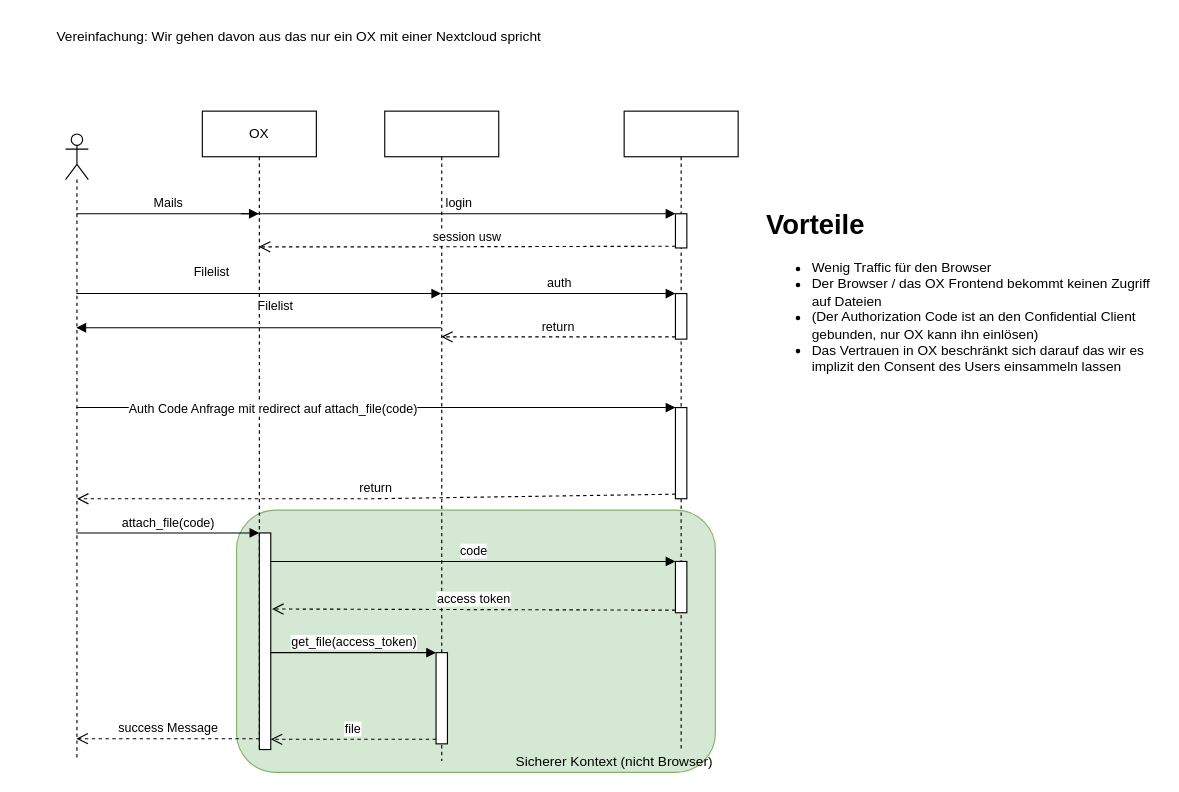
The diagram is 1179 pixels wide and 792 high, and some of its shapes have lost their labels. Each missing label, with the box of its shape:
Keycloak: (623, 110, 738, 750)
Nextcloud Facade: (384, 110, 499, 761)
